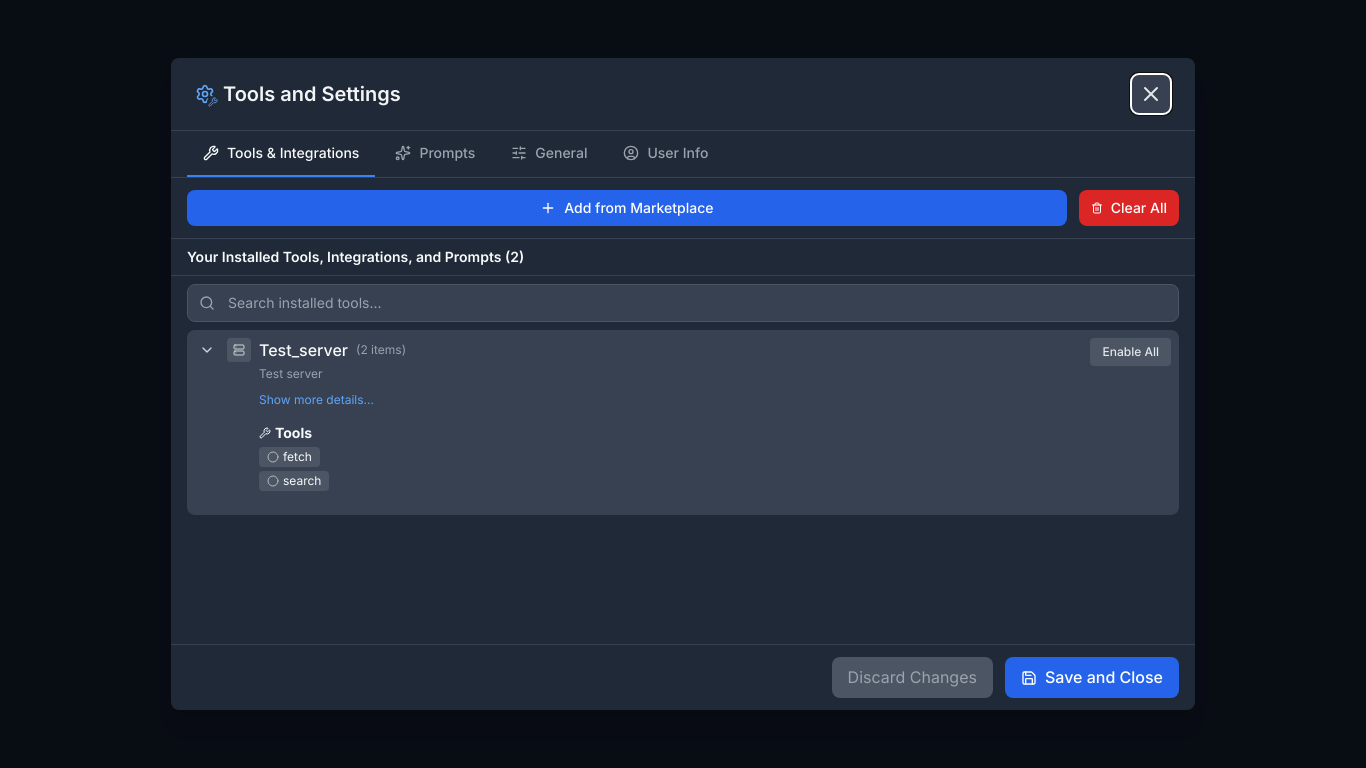
combined panel close guard, against the real ToolsPanel › lets Escape dismiss the nested dialog without closing the panel
Click the button "fetch" at (289, 457), box [259,447,320,467]
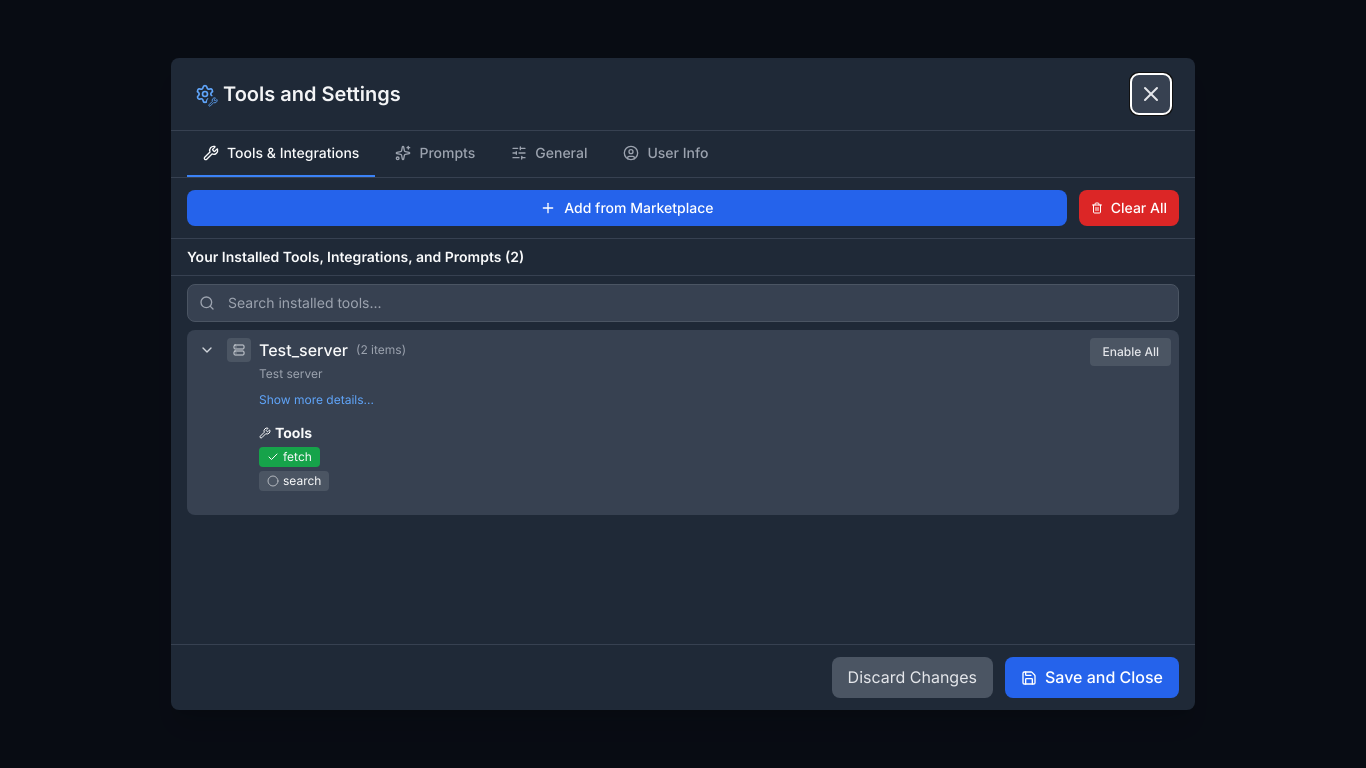
Click the button named "Close tools and settings" at (1151, 94), box [1131,74,1171,114]
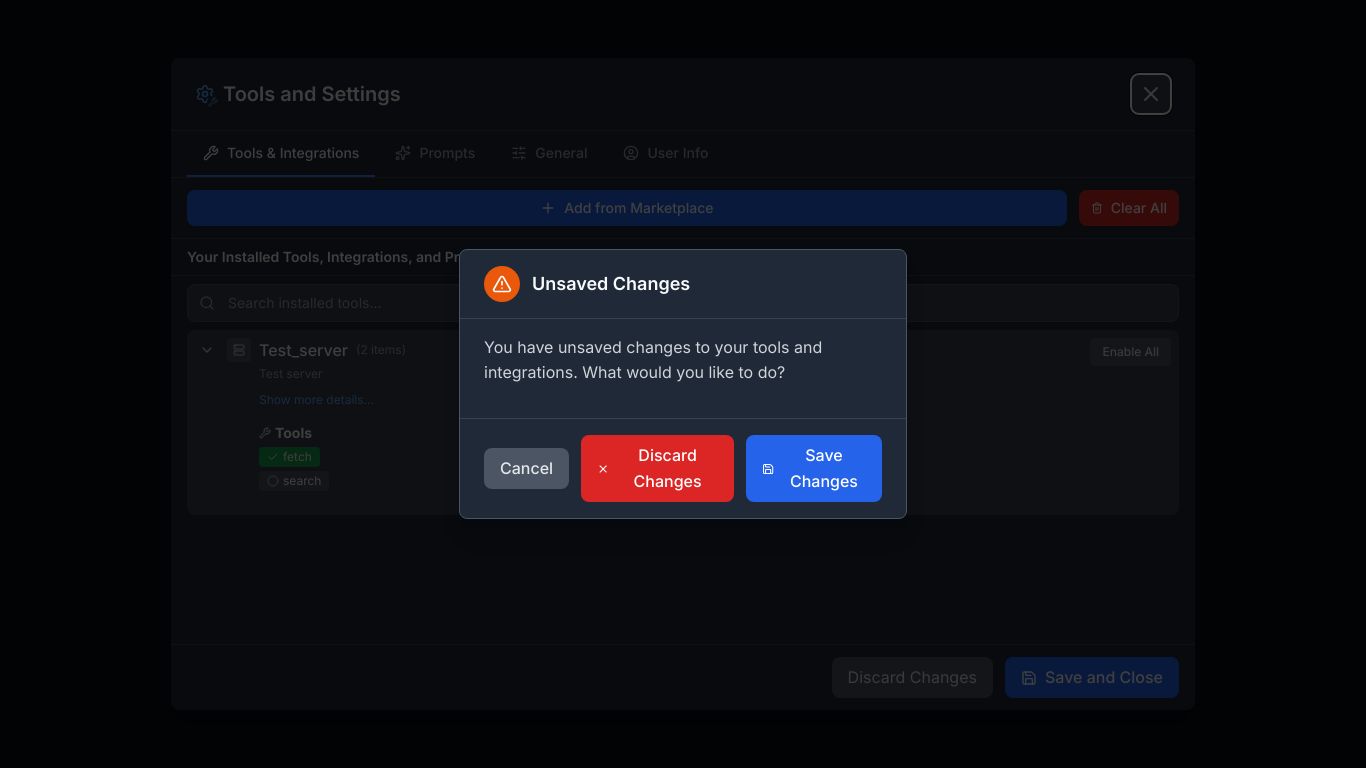
Result: the dialog "Unsaved Changes" is shown
// The overlay handles its own Escape now, so it closes and the panel stays.
Press Escape
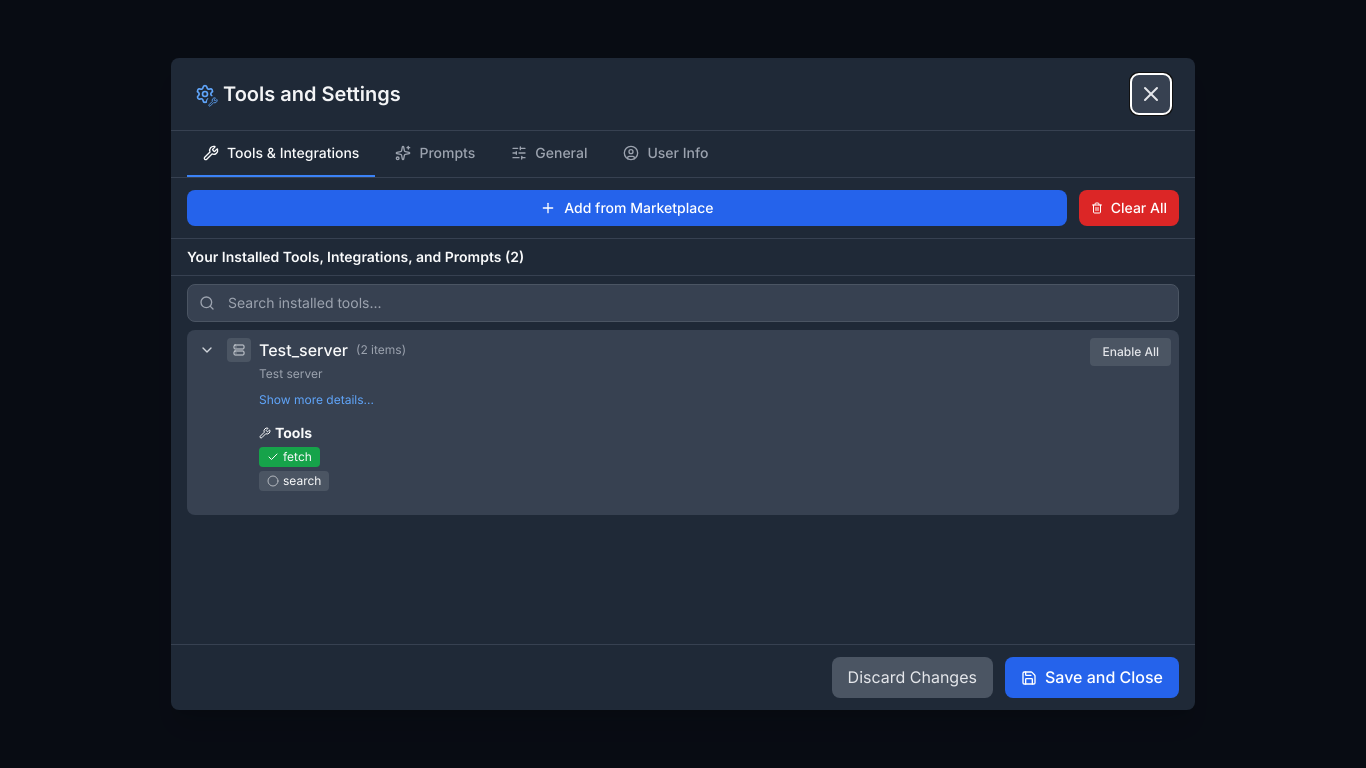
Result: the heading "Unsaved Changes" is gone
